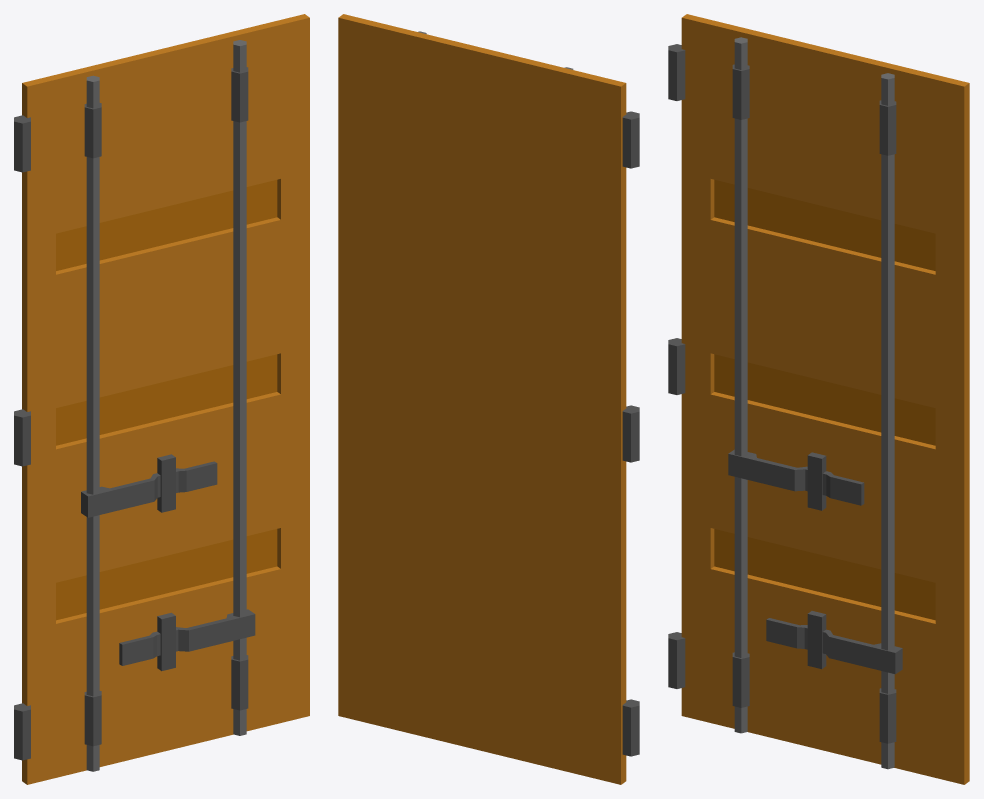
The model's file is ShippingContainer_Door2_L.fbx.
3 views of the same model, side by side, from view 1: azimuth 30°, elevation 25°; view 2: azimuth 150°, elevation 25°; view 3: azimuth 330°, elevation 25° (orthographic).
Visible parts, largest first — view 1: ShippingContainer_Door2_L; view 2: ShippingContainer_Door2_L; view 3: ShippingContainer_Door2_L.
Boxes of the visible parts, left/top/right/bottom form: ShippingContainer_Door2_L: left=14, top=14, right=309, bottom=784; ShippingContainer_Door2_L: left=338, top=14, right=639, bottom=784; ShippingContainer_Door2_L: left=668, top=14, right=969, bottom=784.
Bounding box in the file's own units: 117 × 263 × 8.59.
